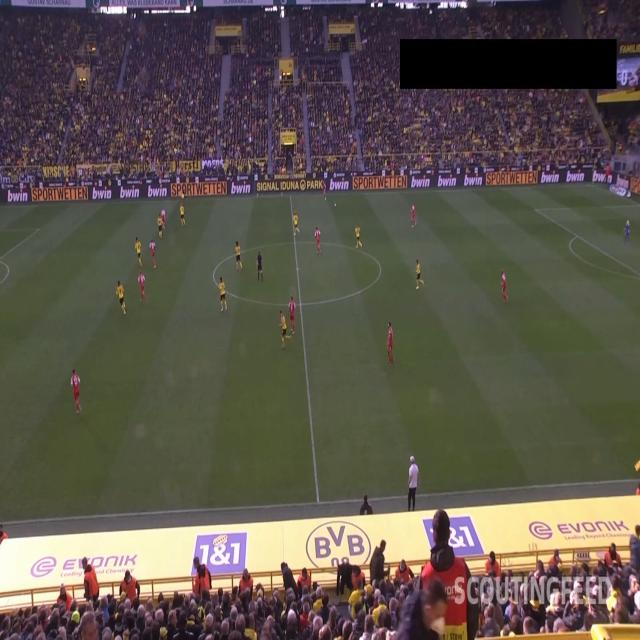ball: (334, 203, 337, 207)
